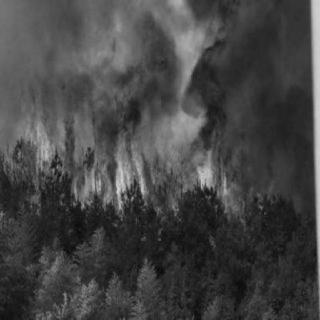Fire: (15, 83, 158, 205), (200, 120, 266, 218)
Smoke: (2, 2, 182, 114), (192, 7, 310, 125), (263, 113, 317, 210)
